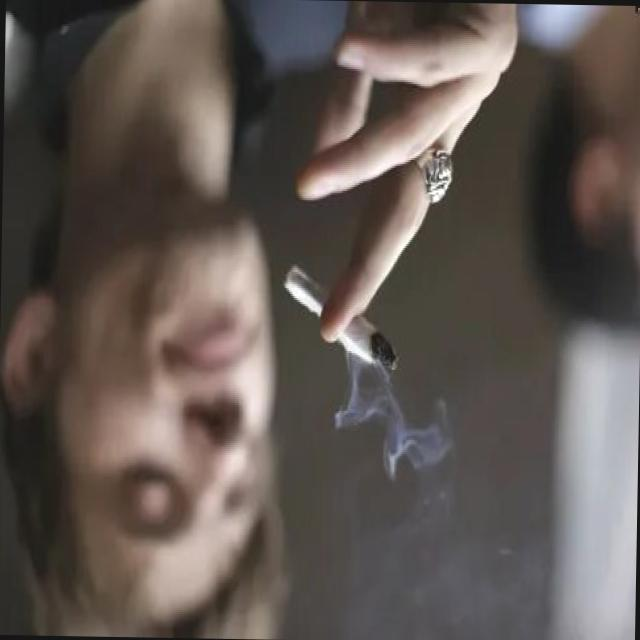smoke: (278, 255, 407, 378)
